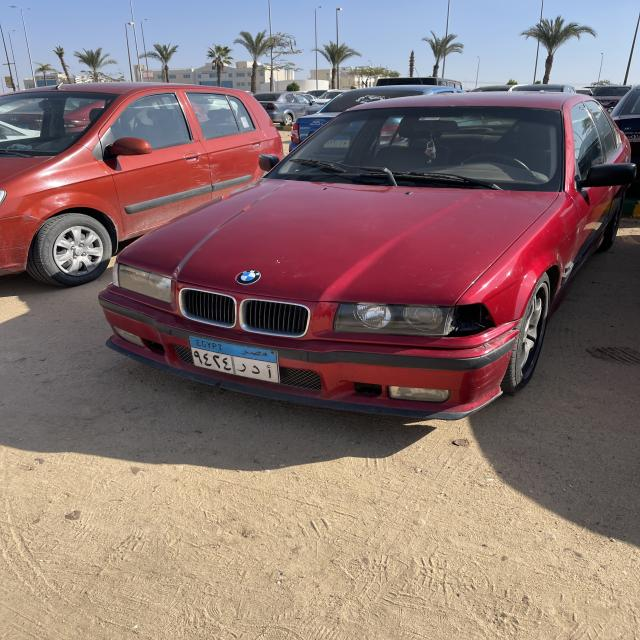License Plate: (190, 336, 281, 384), (323, 135, 350, 147)
